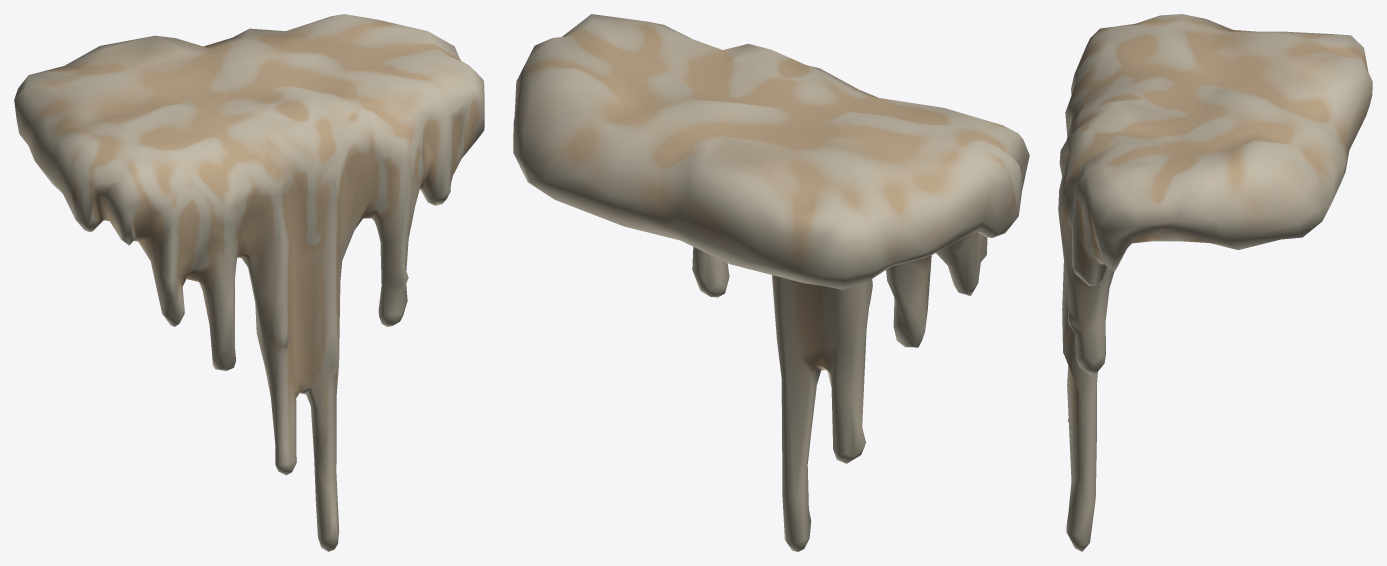
Rendered from SM_CandleDrips_02.FBX.
3 views of the same model, side by side, from view 1: azimuth 30°, elevation 25°; view 2: azimuth 150°, elevation 25°; view 3: azimuth 270°, elevation 25° (orthographic). The views are drawn at different scales.
Visible parts, largest first — view 1: SM_CandleDrips_02_LOD0; view 2: SM_CandleDrips_02_LOD0; view 3: SM_CandleDrips_02_LOD0.
Part boxes in pixels (x1,y1,x2,y2): SM_CandleDrips_02_LOD0: [14, 14, 484, 551]; SM_CandleDrips_02_LOD0: [513, 14, 1029, 551]; SM_CandleDrips_02_LOD0: [1058, 14, 1372, 551].
Size of what is drawn, in the model's own units: 60.4 by 40.07 by 64.6.
